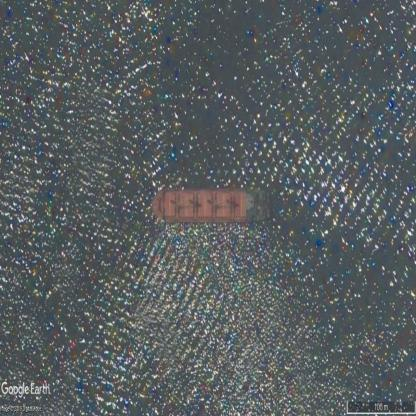ship: (152, 188, 269, 222)
